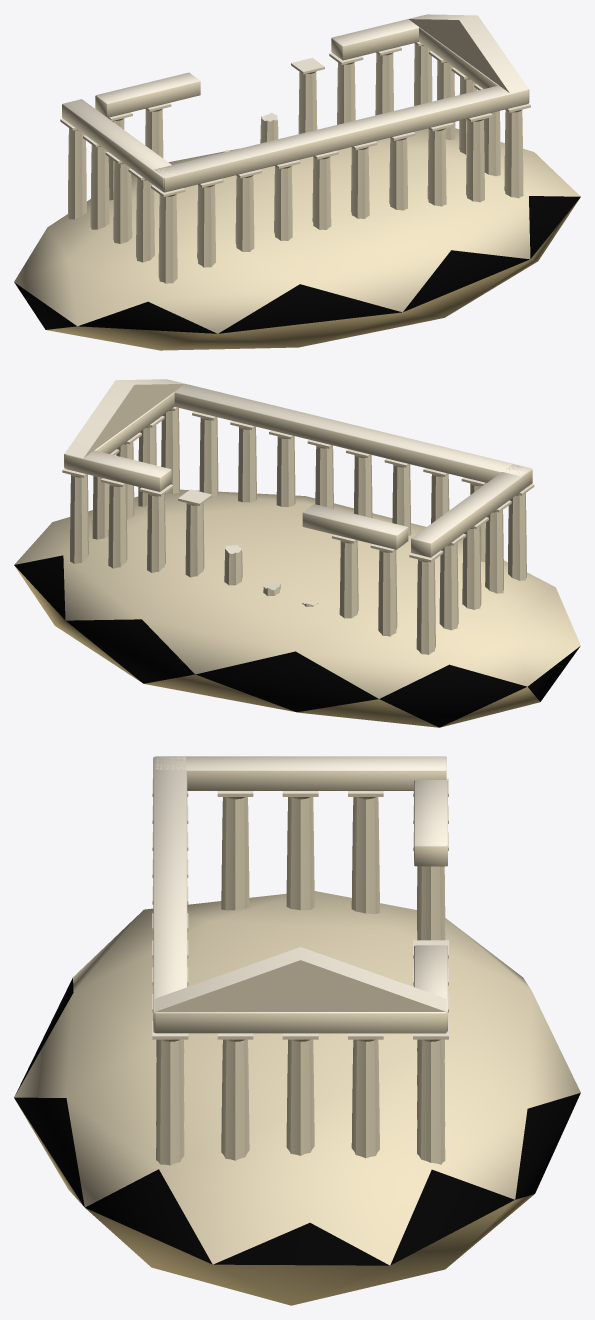
The model's file is GreekTemple.fbx.
3 views of the same model, one above another, from view 1: azimuth 30°, elevation 25°; view 2: azimuth 150°, elevation 25°; view 3: azimuth 270°, elevation 25° (orthographic). The views are drawn at different scales.
Parts seen in each view (by area): view 1: GreekTemple; view 2: GreekTemple; view 3: GreekTemple.
Part boxes in pixels (box(x1,y1,x2,y2)): GreekTemple: box(14, 14, 580, 350); GreekTemple: box(14, 379, 580, 727); GreekTemple: box(14, 756, 580, 1305).
Bounding box in the file's own units: 32.43 × 15.01 × 21.74.
1 material, 1 textured.
